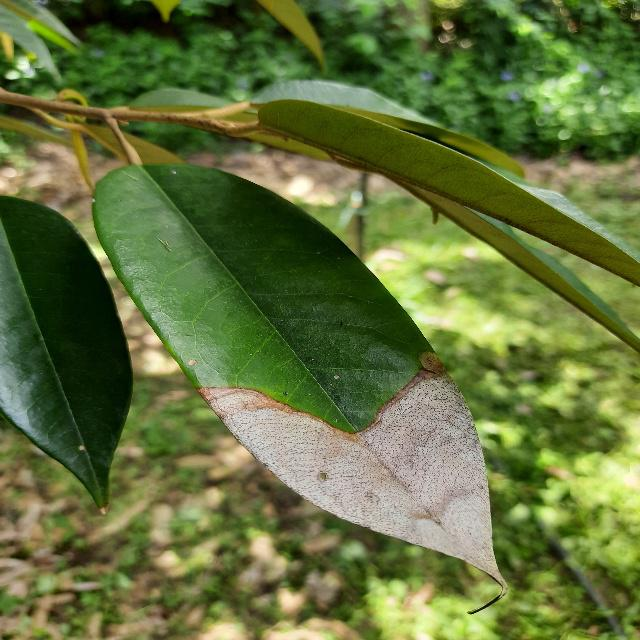Leaf Blight: (79, 154, 515, 597)
